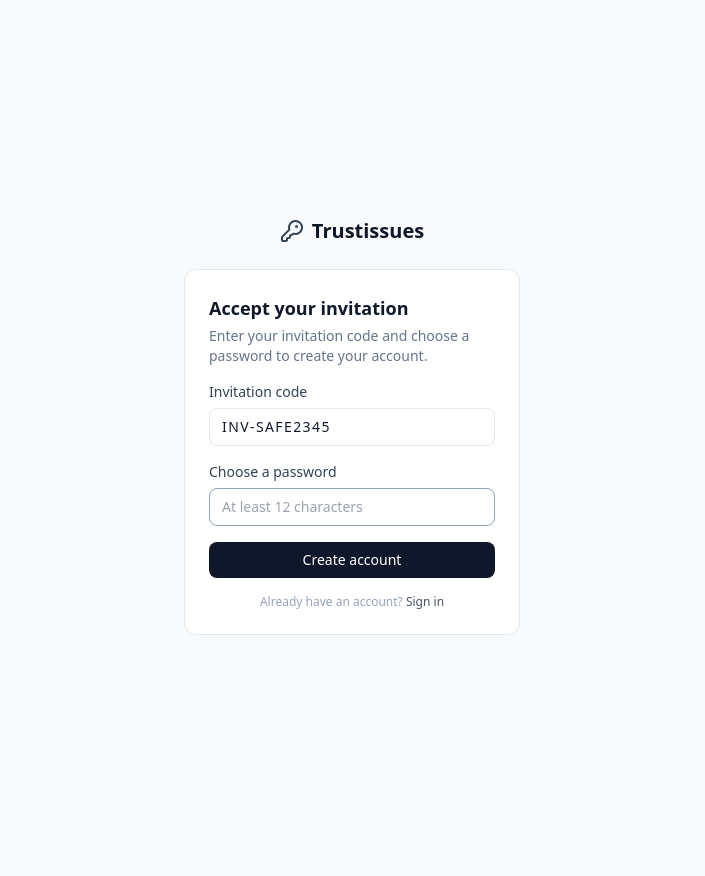
it: web-first client onboarding › redeems with a password, signs in, and ignores any response bootstrap key
In the password field labelled "Choose a password": (352, 507) [209,488,495,526], type "correct horse battery staple"
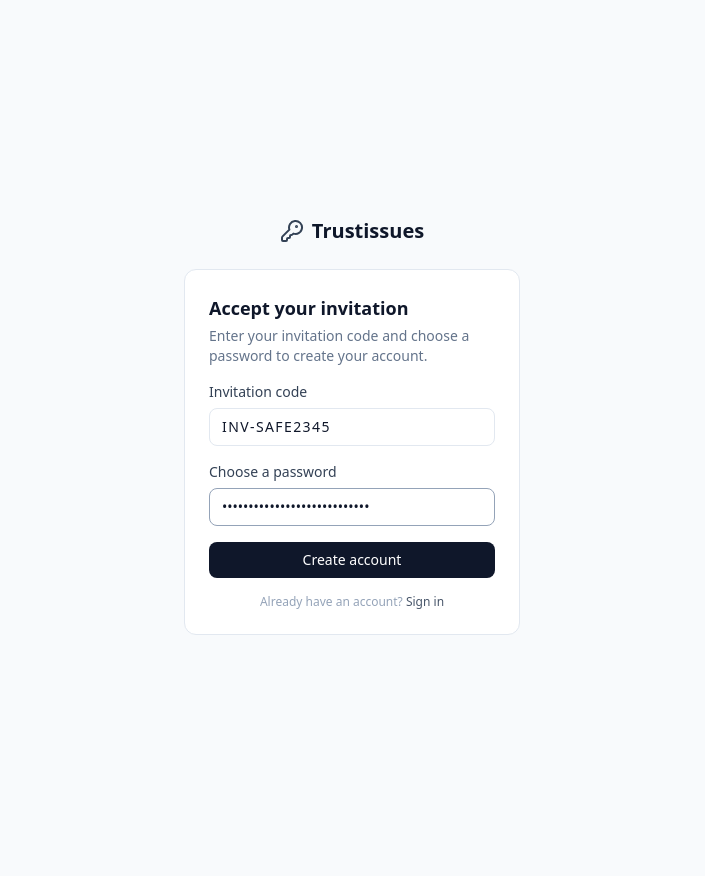
Click the button "Create account": (352, 560) [209,542,495,578]
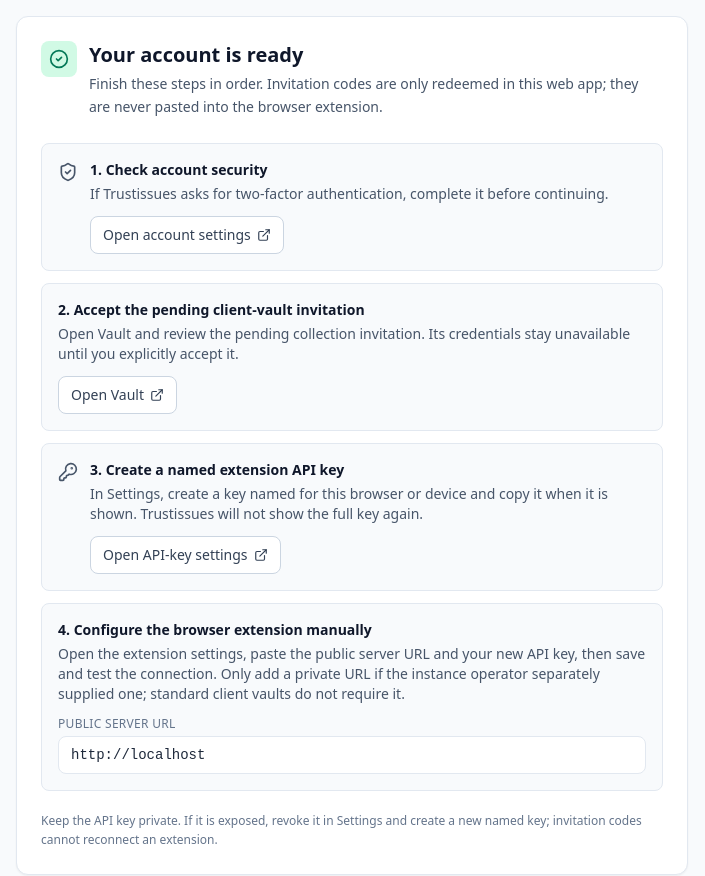
Expected: the heading "Your account is ready" is shown, [89,41,303,68]
